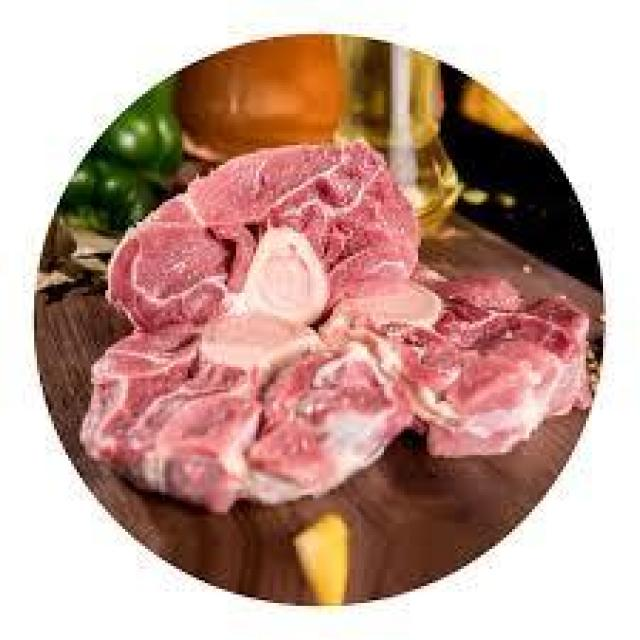Wet Waste: (118, 146, 432, 311)
